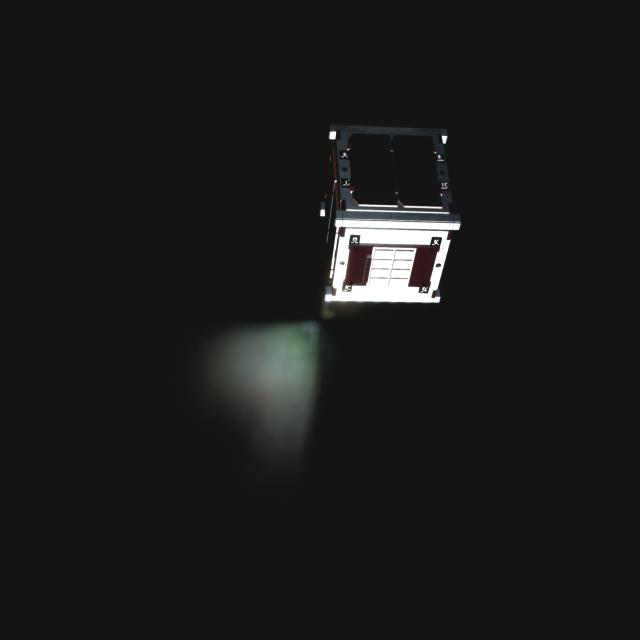satellite: (318, 112, 465, 318)
